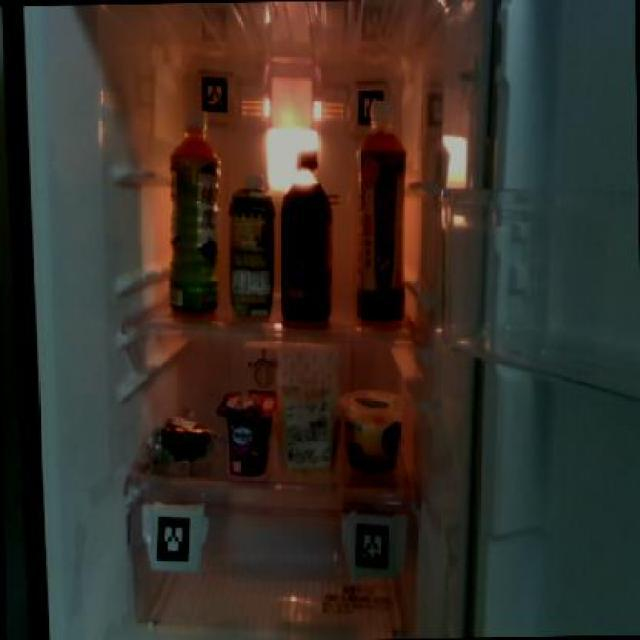bottle: (352, 122, 414, 330), (162, 111, 222, 318)
coffee: (275, 143, 333, 322)
pudding: (338, 385, 406, 473)
rice_ball: (144, 408, 216, 467)
sandwich: (276, 338, 339, 476)
smoothie: (226, 171, 276, 324)
yogurt: (213, 384, 276, 478)
